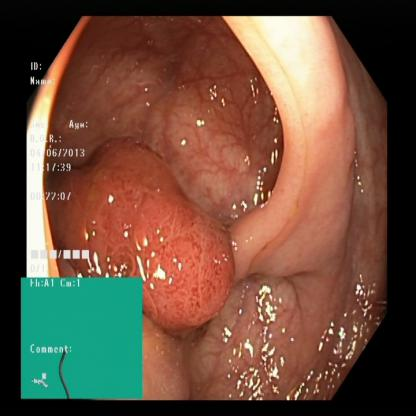Labels: (28, 50, 98, 273), (24, 281, 142, 399)
Polyps: (68, 168, 228, 318)
